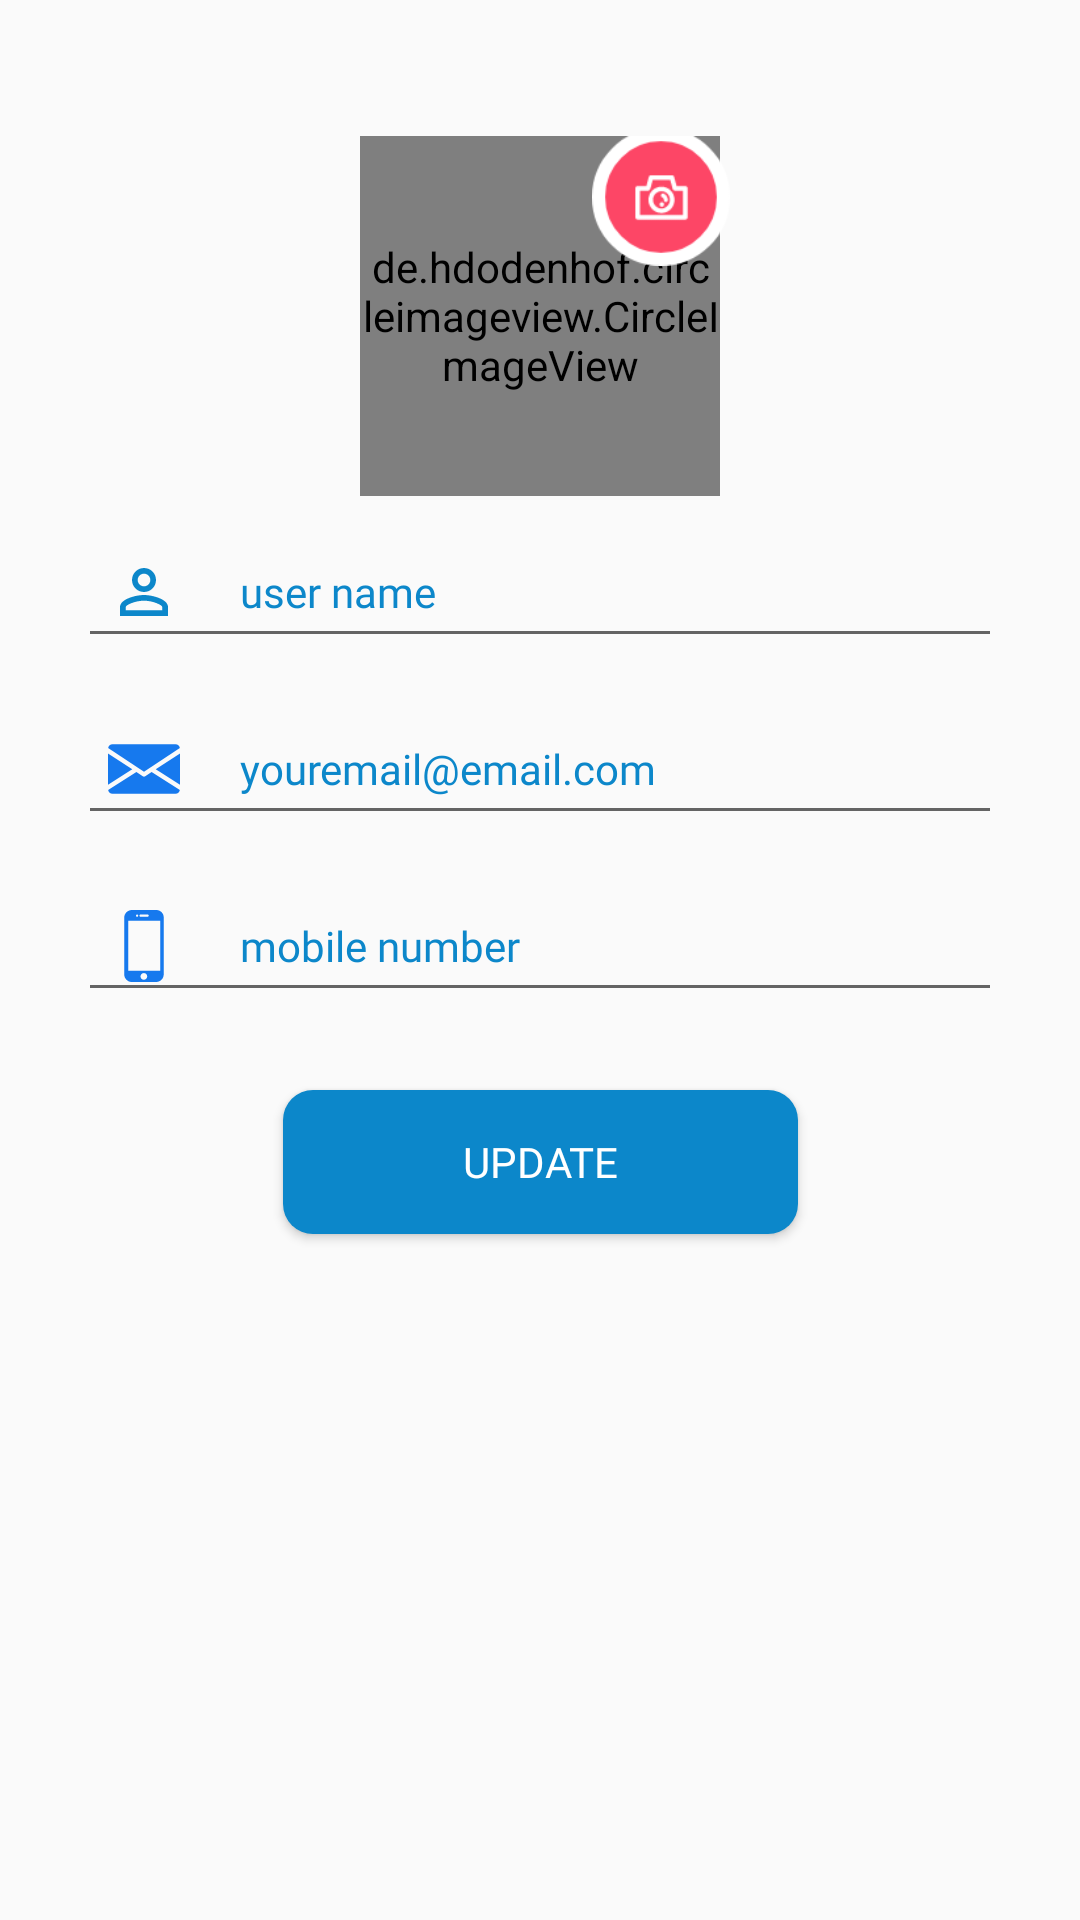

Where to tap for icons on this 1080*1920 app screen, as (x,y):
cameraforchange: (661,201)
